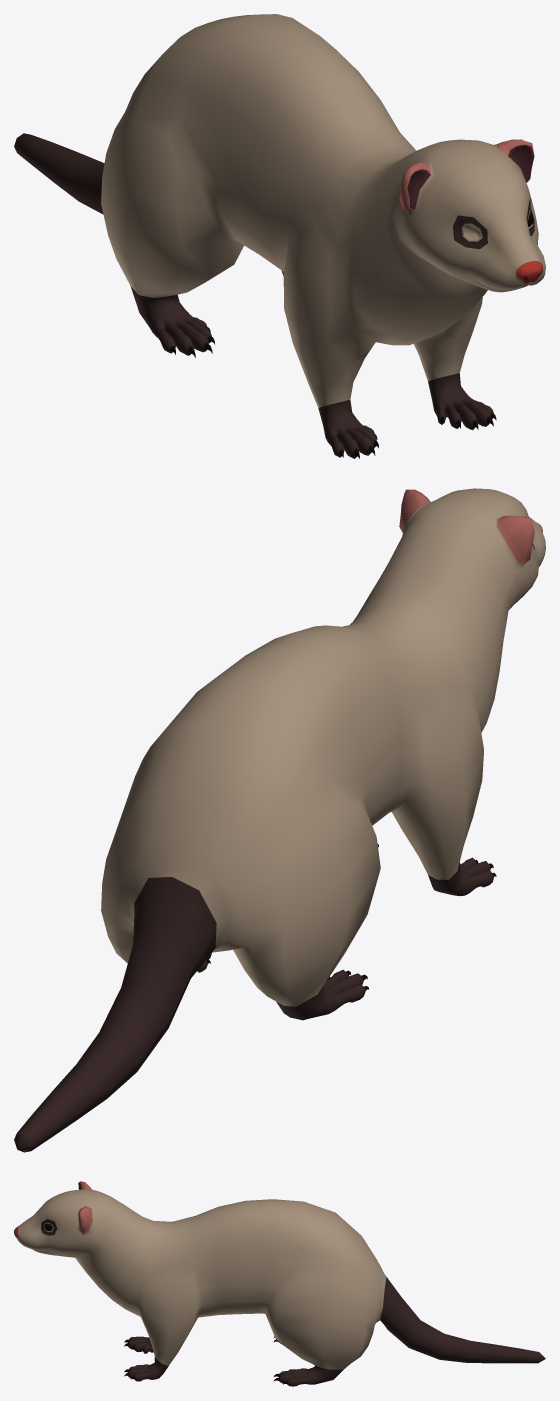
The model's file is ferret.obj.
3 renders of one model, top to bottom at view 1: azimuth 30°, elevation 25°; view 2: azimuth 150°, elevation 25°; view 3: azimuth 270°, elevation 25°, orthographic. The views are drawn at different scales.
Parts seen in each view (by area): view 1: ferret; view 2: ferret; view 3: ferret.
Boxes of the visible parts, x1,y1,x2,y2 form: ferret: [14, 14, 545, 458]; ferret: [14, 488, 545, 1152]; ferret: [14, 1181, 545, 1386].
Bounding box in the file's own units: 0.1382 × 0.1942 × 0.5531.
